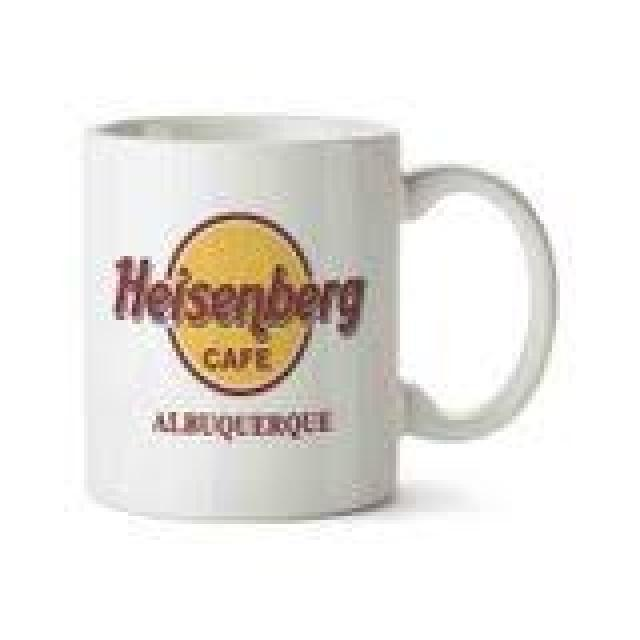taza: (76, 111, 561, 517)
